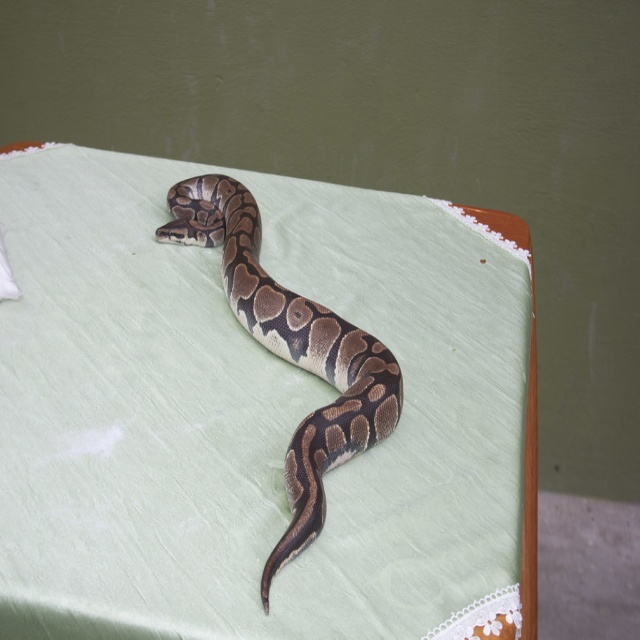Snake: (152, 171, 402, 615)
